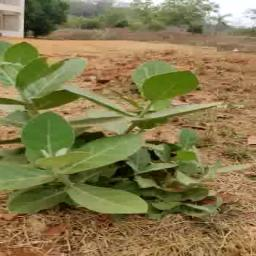CALOTROPIS: (0, 40, 218, 215)
